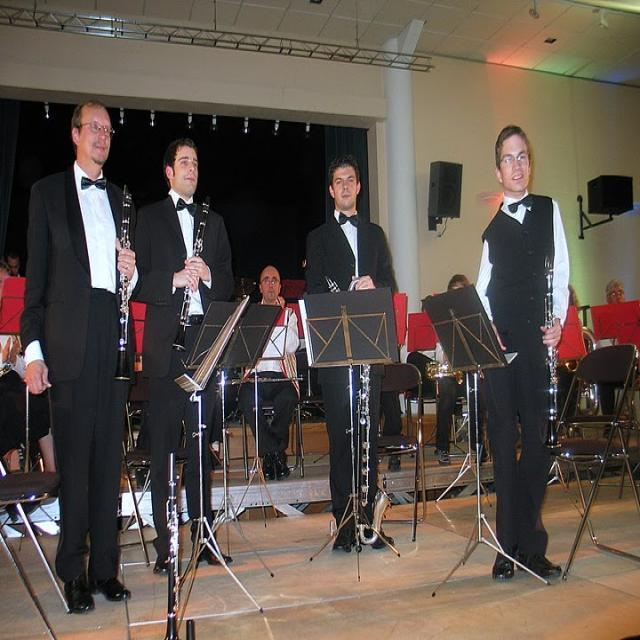clarinet: (530, 257, 565, 452), (172, 194, 213, 354), (112, 186, 134, 384), (166, 450, 185, 640), (360, 362, 373, 526)
